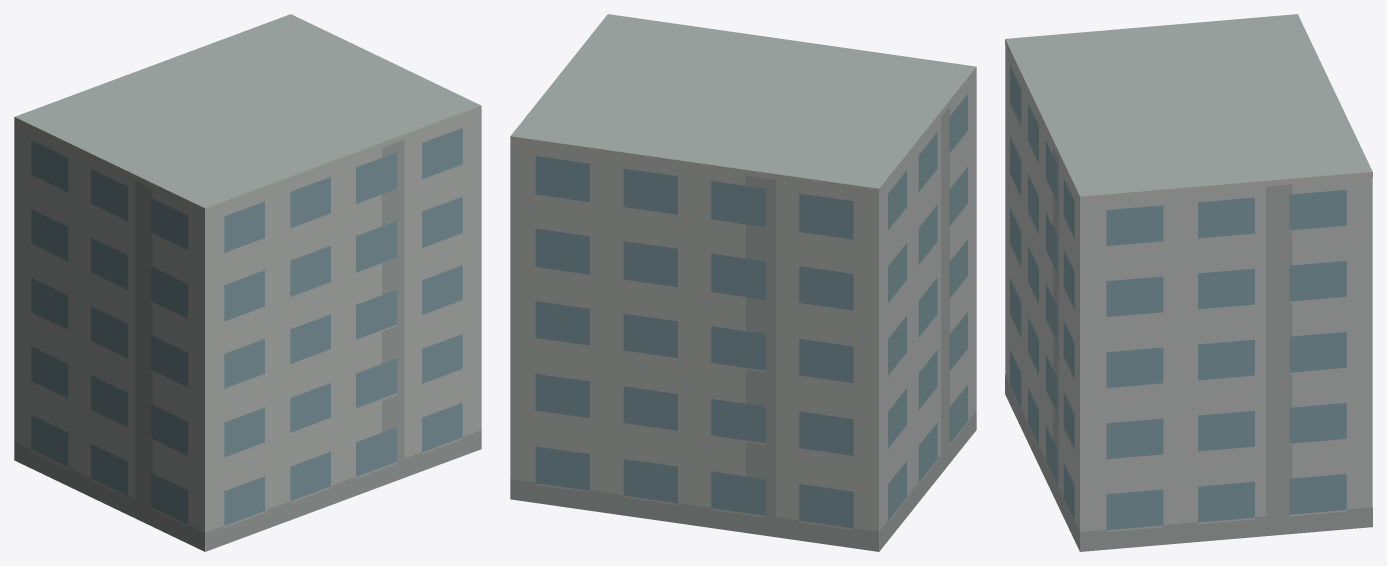
File: residential-1c8c34c2-7f7c-415e-8c84-1c01b997f8e4.glb
3 views of the same model, side by side, from view 1: azimuth 30°, elevation 25°; view 2: azimuth 150°, elevation 25°; view 3: azimuth 270°, elevation 25° (orthographic). The views are drawn at different scales.
Visible parts, largest first — view 1: residential-1c8c34c2-7f7c-415e-8c84-1c01b997f8e4.tmp; view 2: residential-1c8c34c2-7f7c-415e-8c84-1c01b997f8e4.tmp; view 3: residential-1c8c34c2-7f7c-415e-8c84-1c01b997f8e4.tmp.
Part boxes in pixels (x1,y1,x2,y2): residential-1c8c34c2-7f7c-415e-8c84-1c01b997f8e4.tmp: (14, 14, 481, 551); residential-1c8c34c2-7f7c-415e-8c84-1c01b997f8e4.tmp: (510, 14, 976, 551); residential-1c8c34c2-7f7c-415e-8c84-1c01b997f8e4.tmp: (1005, 14, 1372, 551).
Size of the model in its own units: 16.83 by 15.25 by 14.32.
